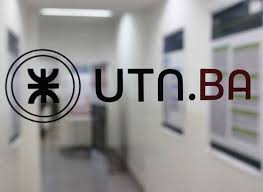utn: (25, 62, 62, 105)
